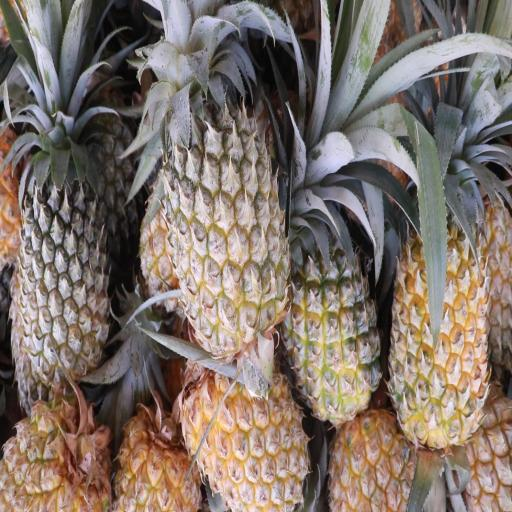------------------------------: (159, 21, 295, 372), (280, 173, 384, 426)
Pineapple - v8 v1: (385, 150, 492, 450), (174, 353, 318, 512)
